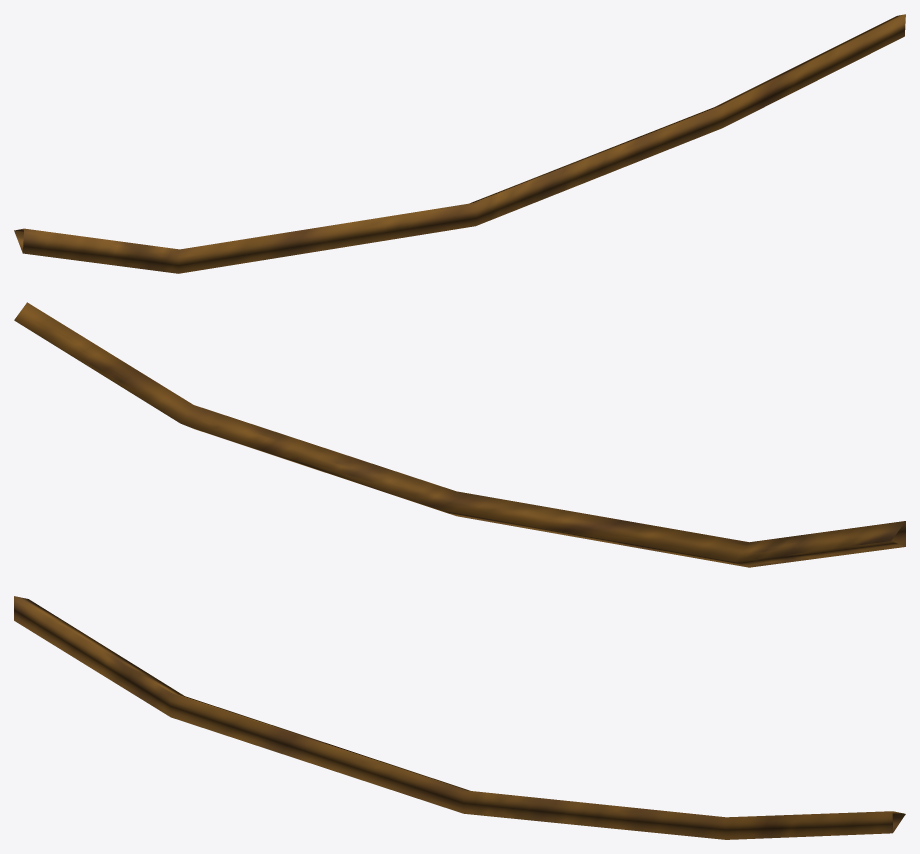
File: rope.fbx
The picture shows the model from 3 angles, top to bottom: view 1: azimuth 30°, elevation 25°; view 2: azimuth 150°, elevation 25°; view 3: azimuth 330°, elevation 25°; orthographic projection.
Parts seen in each view (by area): view 1: polySurface1; view 2: polySurface1; view 3: polySurface1.
Part boxes in pixels (x1,y1,x2,y2): polySurface1: [14, 14, 905, 273]; polySurface1: [14, 302, 905, 567]; polySurface1: [14, 596, 905, 839].
Bounding box in the file's own units: 10.12 × 1.18 × 0.3822.
